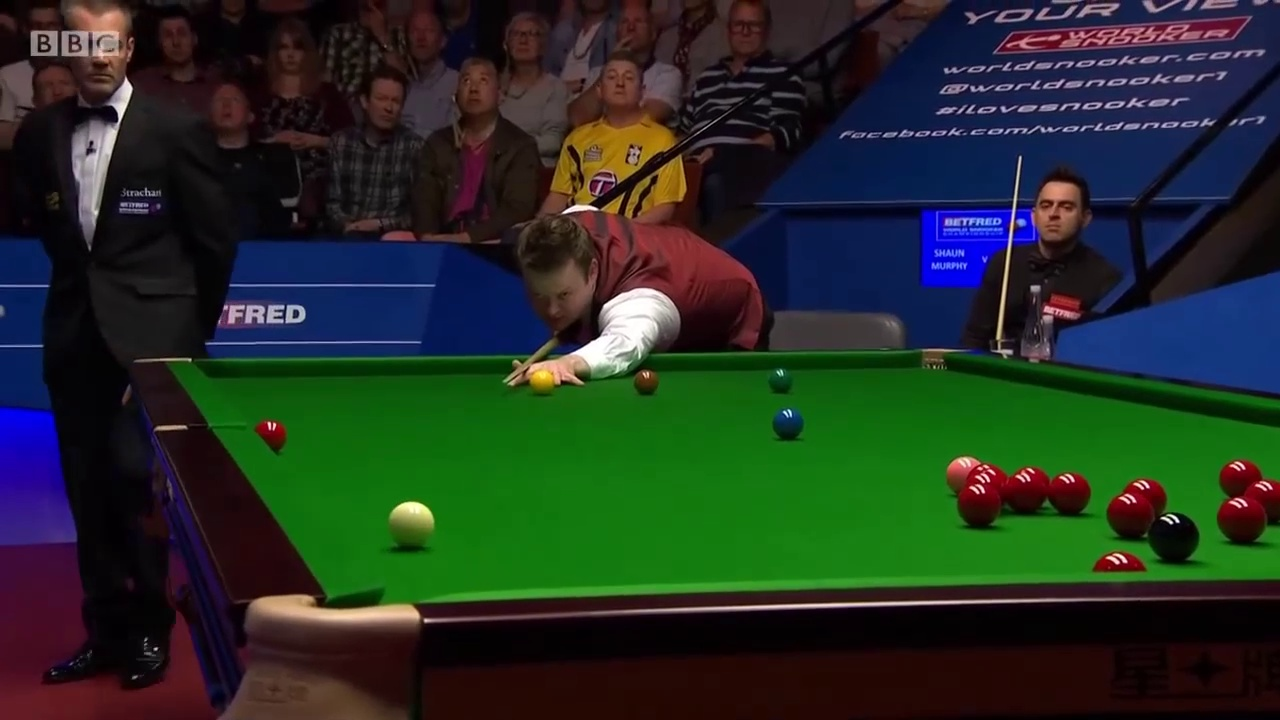black: (1153, 512, 1197, 563)
blue: (774, 407, 803, 438)
brown: (633, 370, 659, 392)
green: (770, 368, 792, 391)
red: (1219, 495, 1267, 543), (1108, 495, 1151, 538), (959, 487, 1001, 527), (1052, 472, 1090, 515), (1008, 473, 1044, 514)
white: (387, 499, 436, 546)
yellow: (530, 368, 555, 391)
